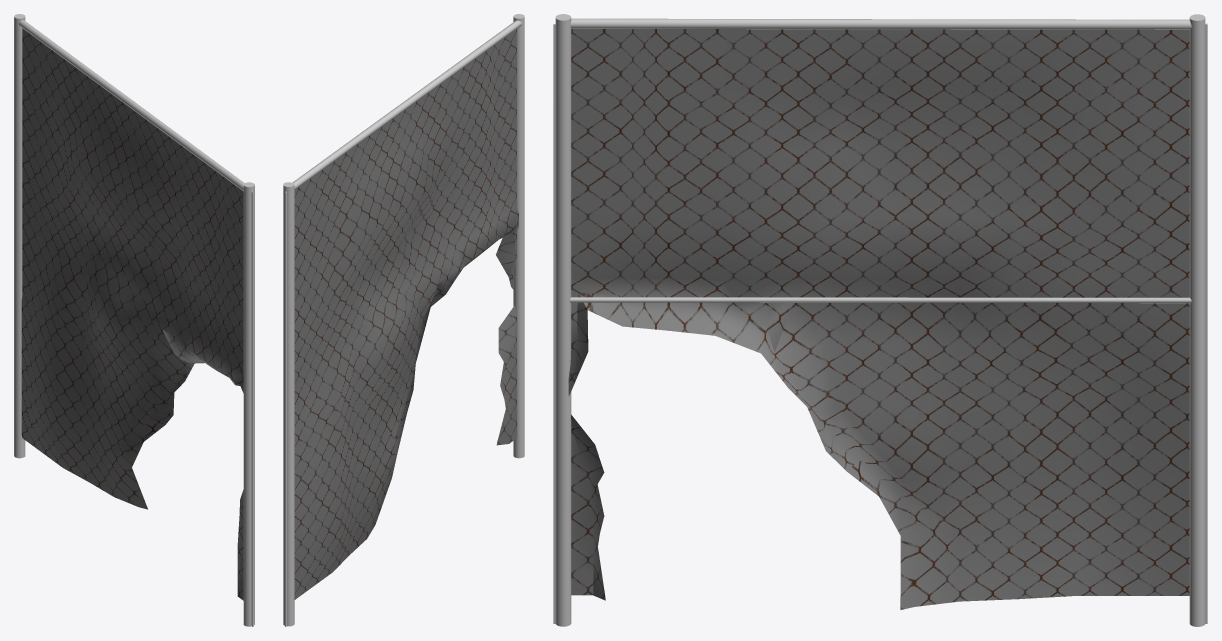
The model's file is SM_WireFence_B.fbx.
3 renders of one model, left to right at view 1: azimuth 30°, elevation 25°; view 2: azimuth 150°, elevation 25°; view 3: azimuth 270°, elevation 25°, orthographic. The views are drawn at different scales.
Parts seen in each view (by area): view 1: SM_WireFence_B_LOD0; view 2: SM_WireFence_B_LOD0; view 3: SM_WireFence_B_LOD0.
Part boxes in pixels (x1=…): SM_WireFence_B_LOD0: x1=14, y1=14, x2=254, y2=626; SM_WireFence_B_LOD0: x1=283, y1=14, x2=524, y2=626; SM_WireFence_B_LOD0: x1=553, y1=14, x2=1207, y2=626.
Bounding box in the file's own units: 22.01 × 300 × 307.
Materials: 2 (1 with a texture image).
